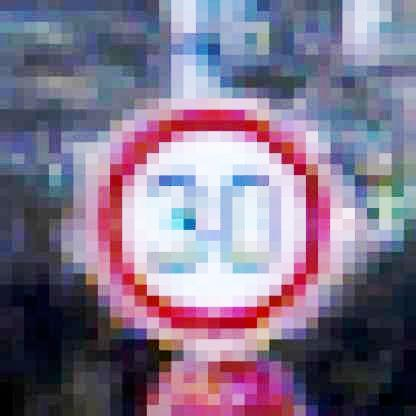Speed Limit -30-: (78, 99, 344, 348)
